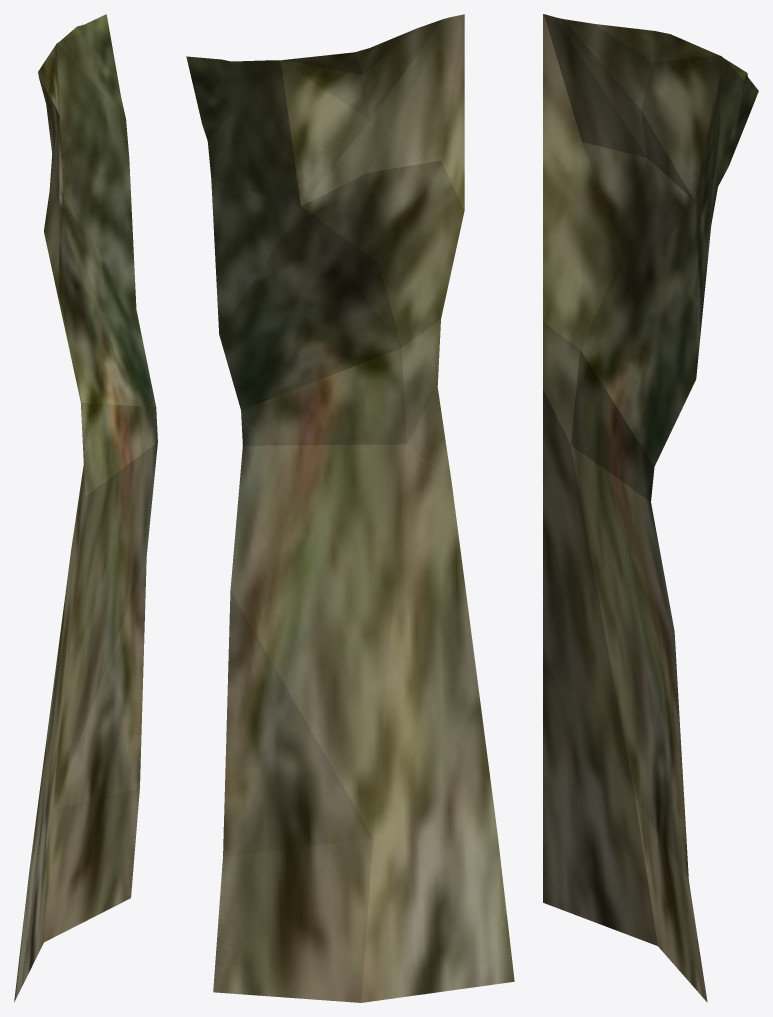
The picture shows the model from 3 angles, left to right: view 1: azimuth 30°, elevation 25°; view 2: azimuth 150°, elevation 25°; view 3: azimuth 270°, elevation 25°; orthographic projection. The views are drawn at different scales.
Bounding box in the file's own units: 0.6954 × 2.95 × 0.6328.
Materials: 1 (1 with a texture image).
